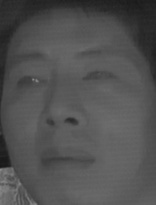eye: (12, 69, 56, 91), (83, 64, 119, 87)
mouth: (33, 141, 97, 175)
